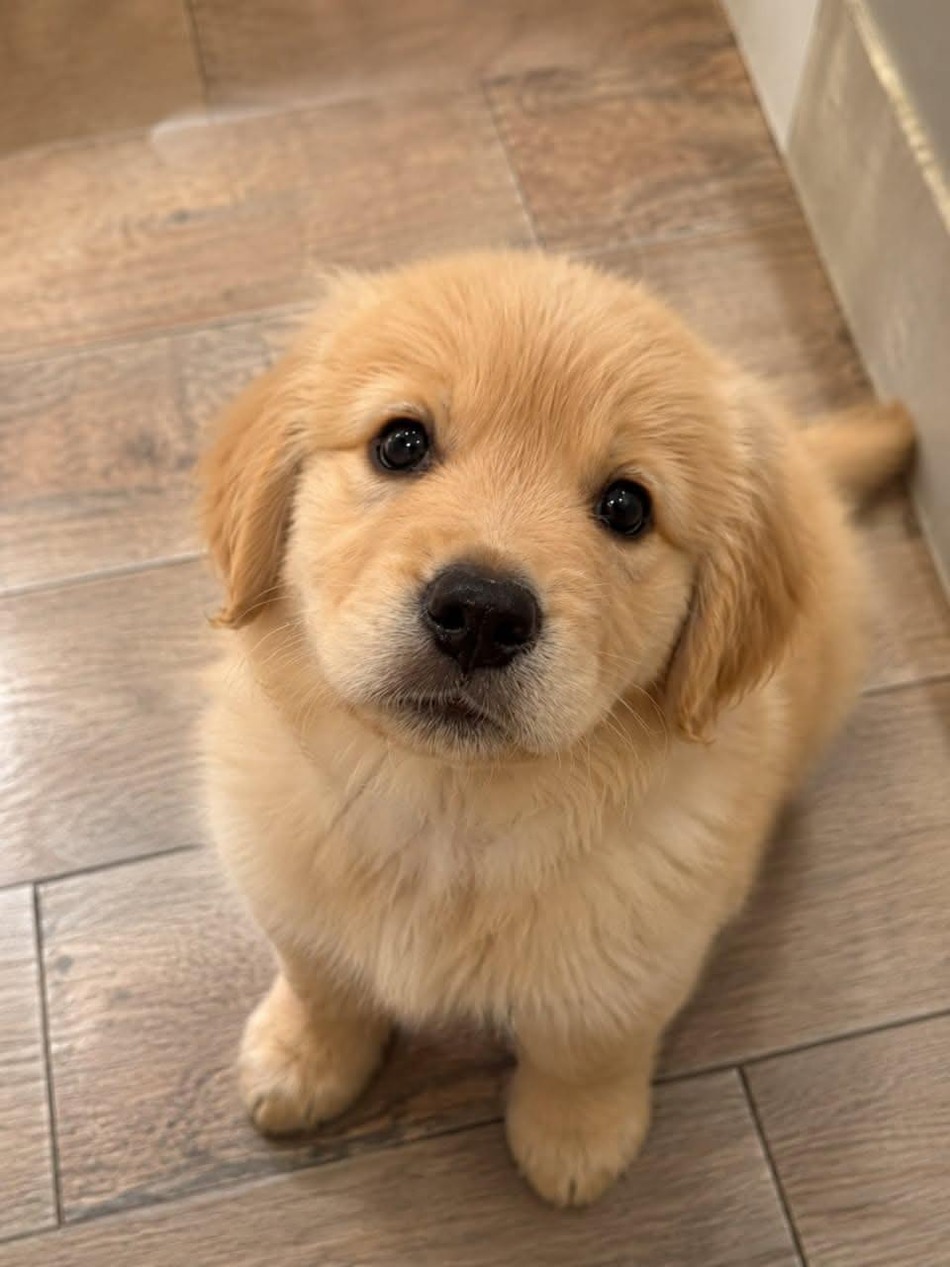puppy-dog: (182, 241, 917, 1212)
